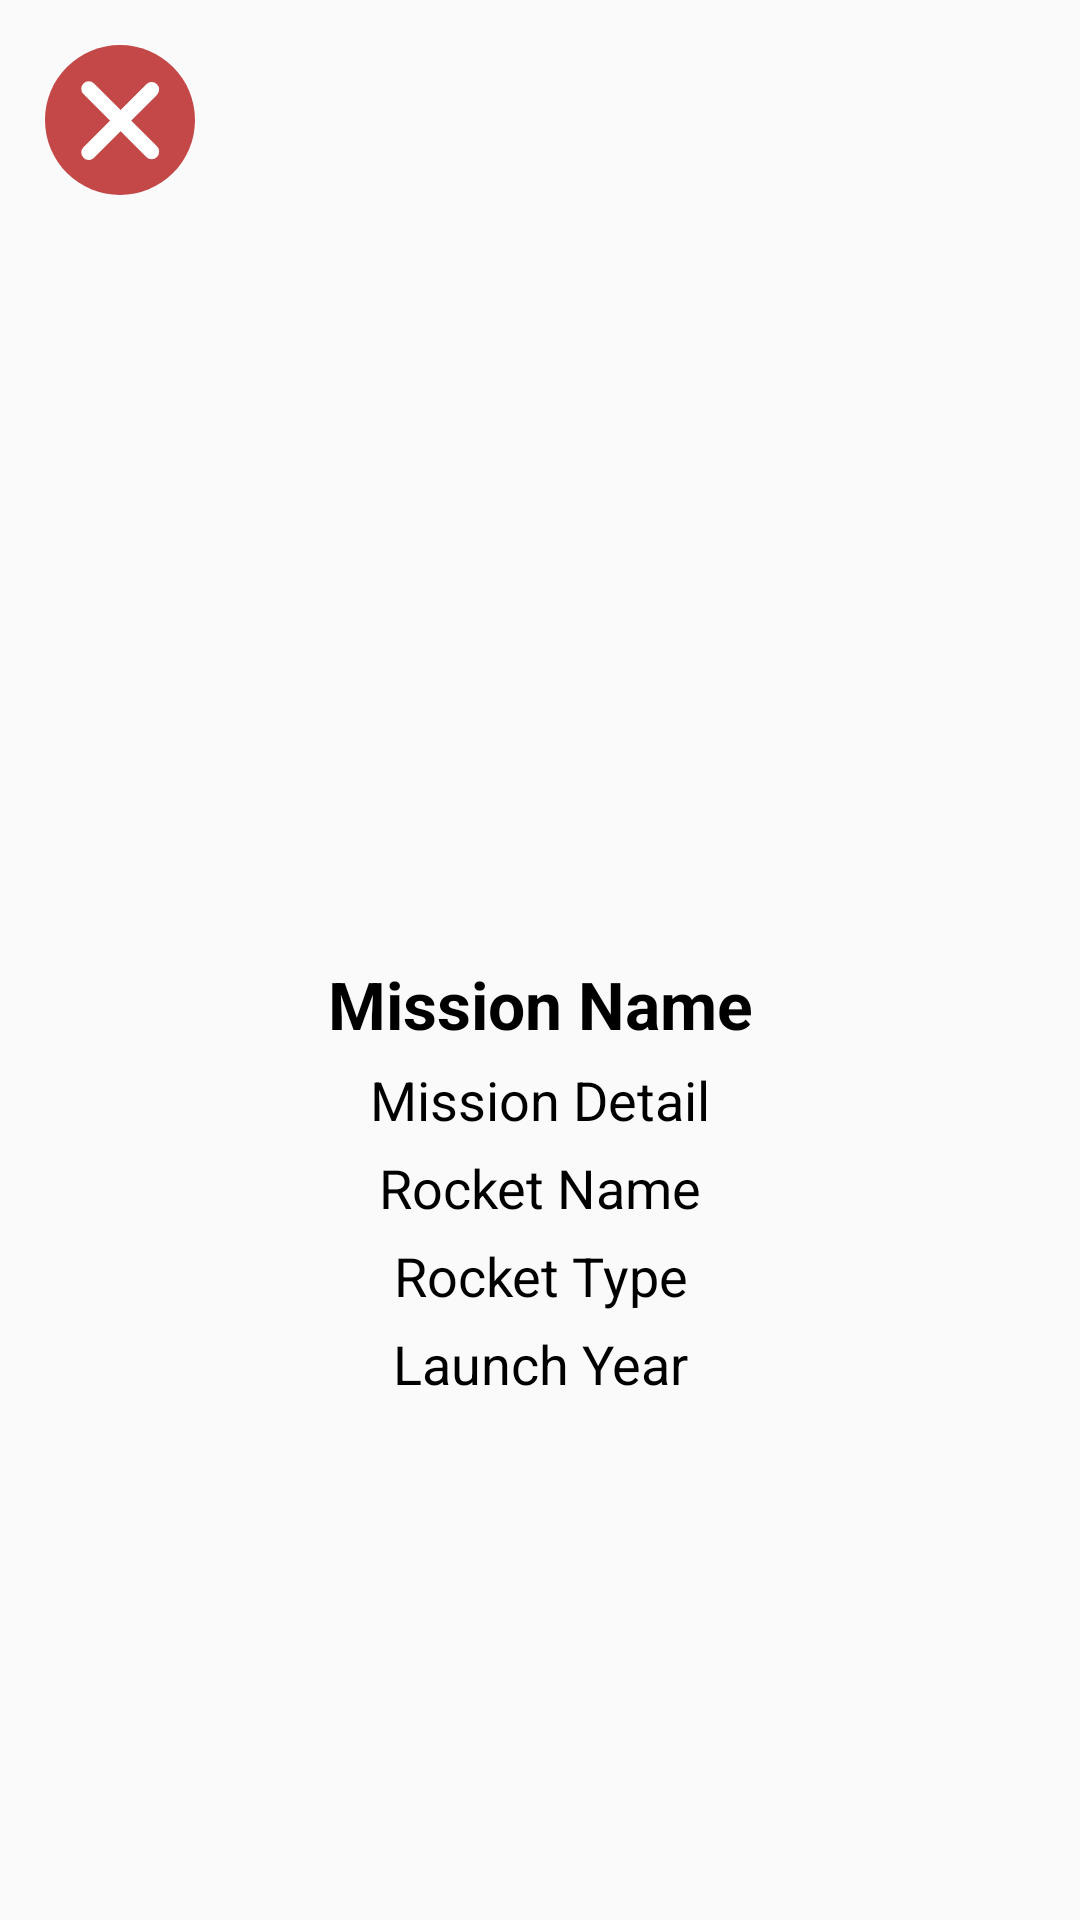

Point at icon controls on the screen. Image size 1080px x 1920px, points as [x,y].
close: [120,120]
